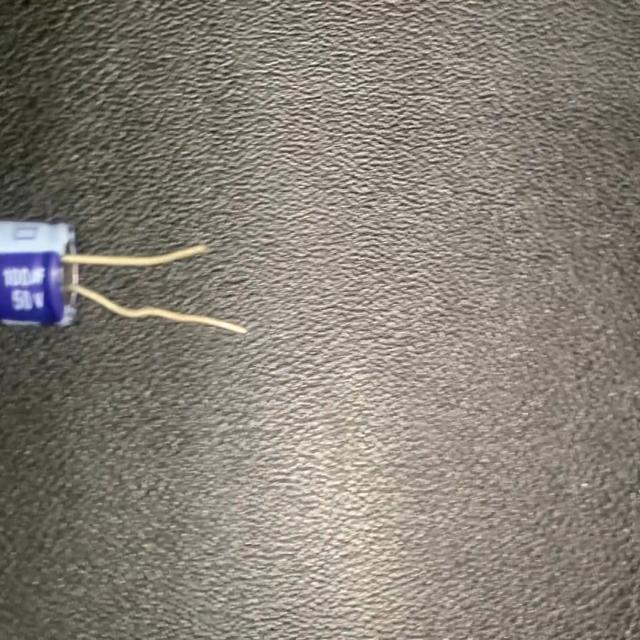capacitor: (0, 208, 251, 344)
